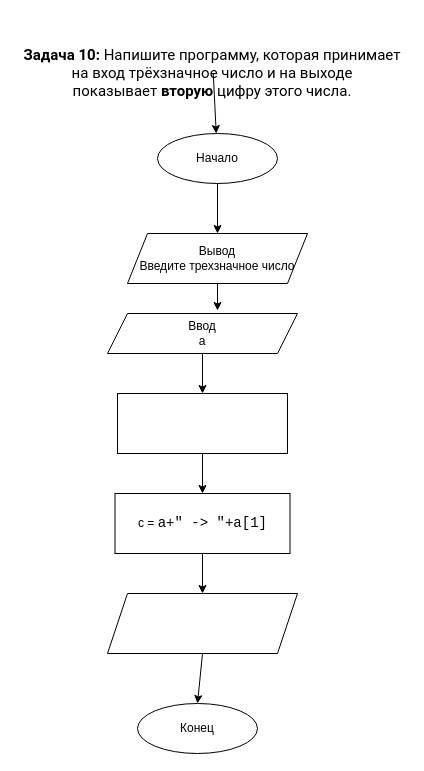
This 424x771 diagram has some shape labels left out. Each missing label, with the box of its shape:
b = a.ToCharArray: (116, 392, 288, 454)
Вывод c: (106, 592, 298, 654)
